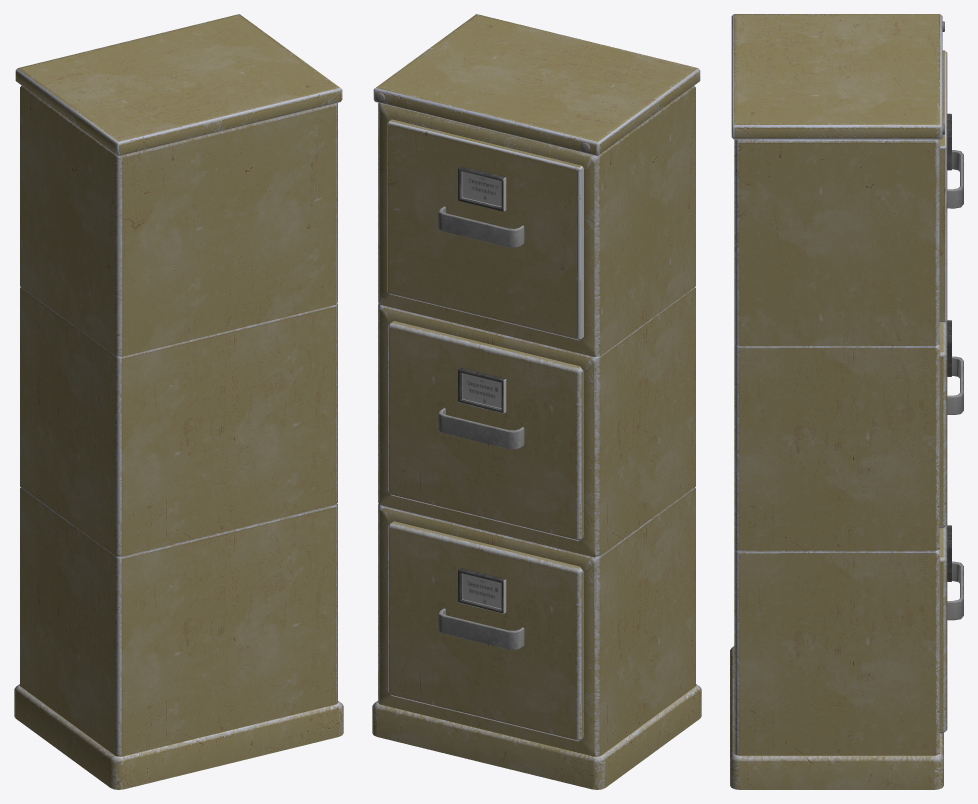
Rendered from SM_Filing_Cabinet_2.fbx.
3 renders of one model, left to right at view 1: azimuth 30°, elevation 25°; view 2: azimuth 150°, elevation 25°; view 3: azimuth 270°, elevation 25°, orthographic. The views are drawn at different scales.
Visible parts, largest first — view 1: SM_Filing_Cabinet_2_LOD0; view 2: SM_Filing_Cabinet_2_LOD0; view 3: SM_Filing_Cabinet_2_LOD0.
Part boxes in pixels (x1,y1,x2,y2): SM_Filing_Cabinet_2_LOD0: (14,14,343,789); SM_Filing_Cabinet_2_LOD0: (372,14,701,789); SM_Filing_Cabinet_2_LOD0: (730,14,963,789).
Bounding box in the file's own units: 47.93 × 40.87 × 128.
1 material, 1 textured.
